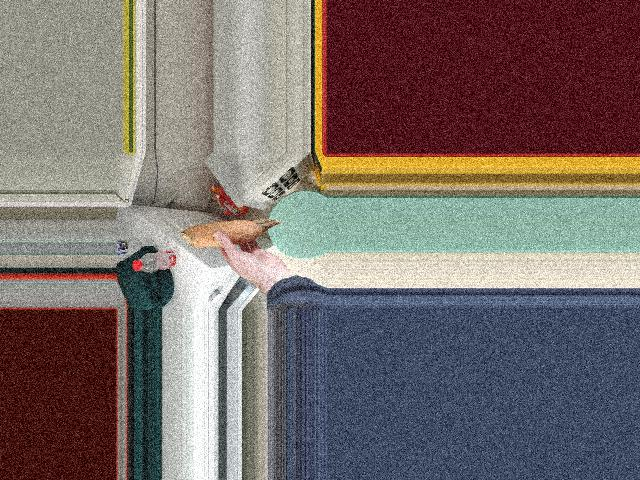sweet_potato: (188, 219, 281, 246)
